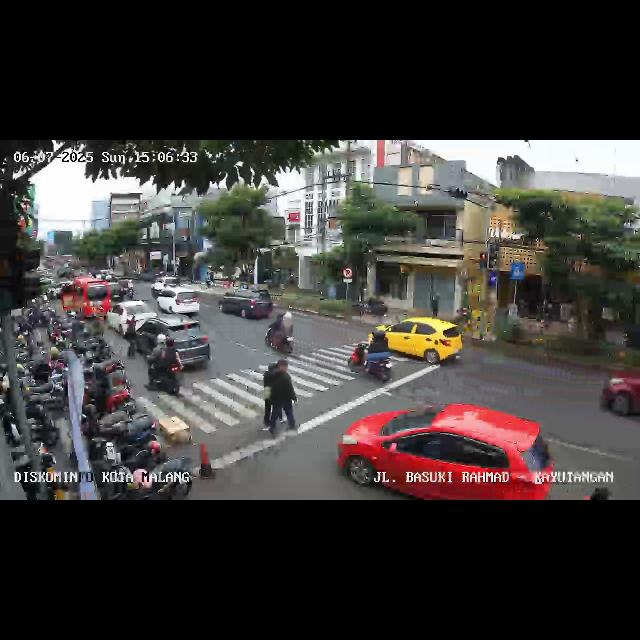car: (338, 402, 554, 500), (378, 315, 464, 369), (134, 316, 210, 374), (597, 362, 639, 426), (58, 279, 110, 321), (219, 288, 273, 322), (108, 301, 156, 335), (155, 287, 201, 319), (107, 281, 123, 301)
motorcycle: (258, 358, 300, 438), (348, 326, 392, 384), (145, 334, 183, 398), (264, 309, 296, 356), (126, 280, 134, 300)
